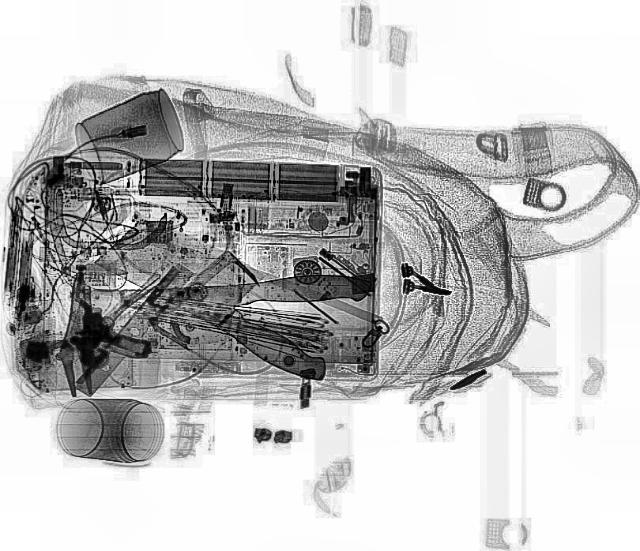Knife: (92, 208, 366, 388), (66, 270, 378, 350)
